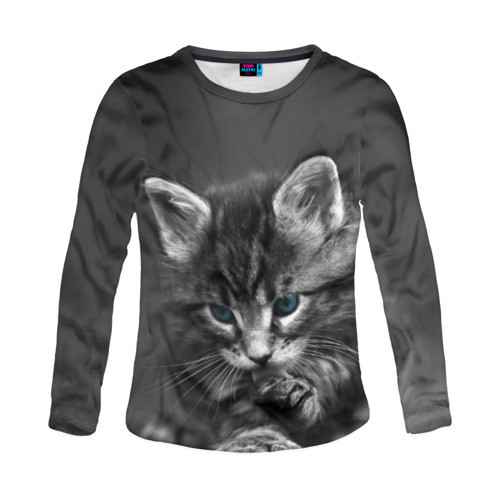cat: (134, 149, 356, 379)
